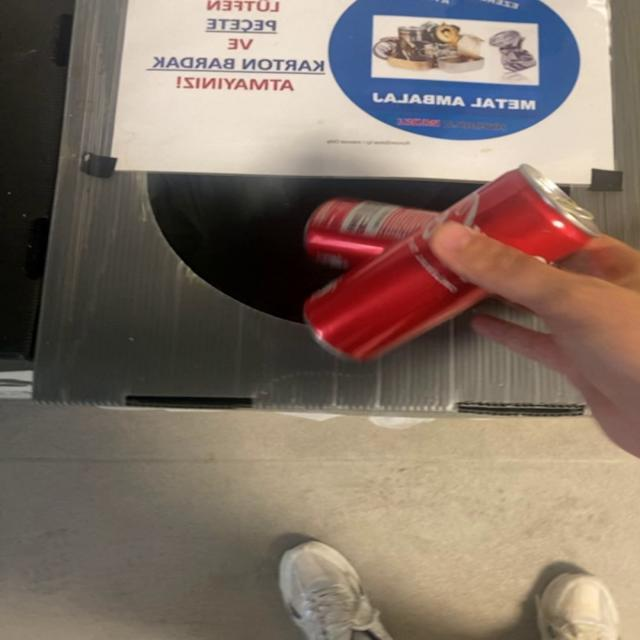Bin: (34, 0, 585, 415), (575, 0, 640, 240)
Metal: (305, 164, 601, 360)
